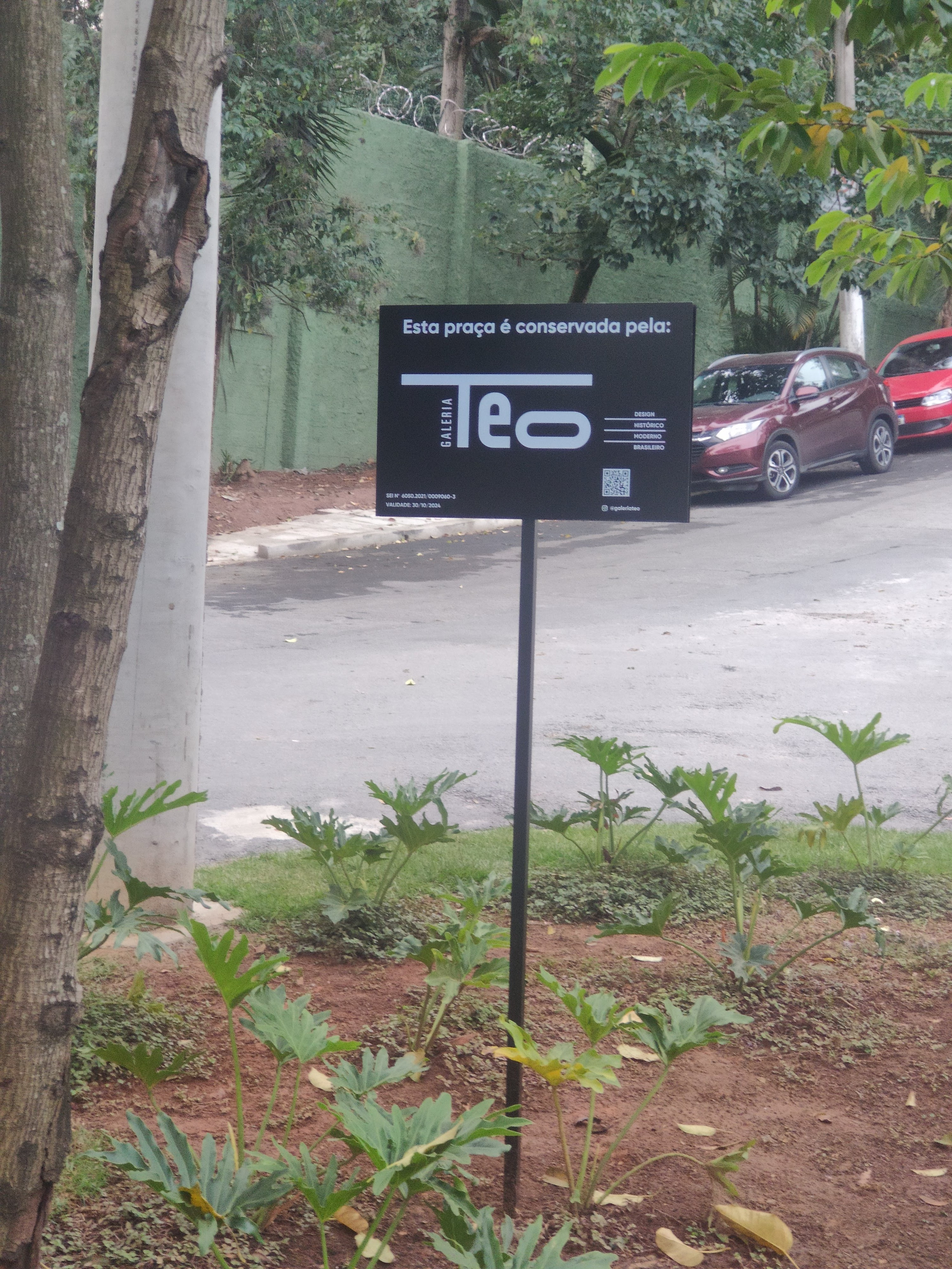QR-CODE: (604, 471, 628, 495)
